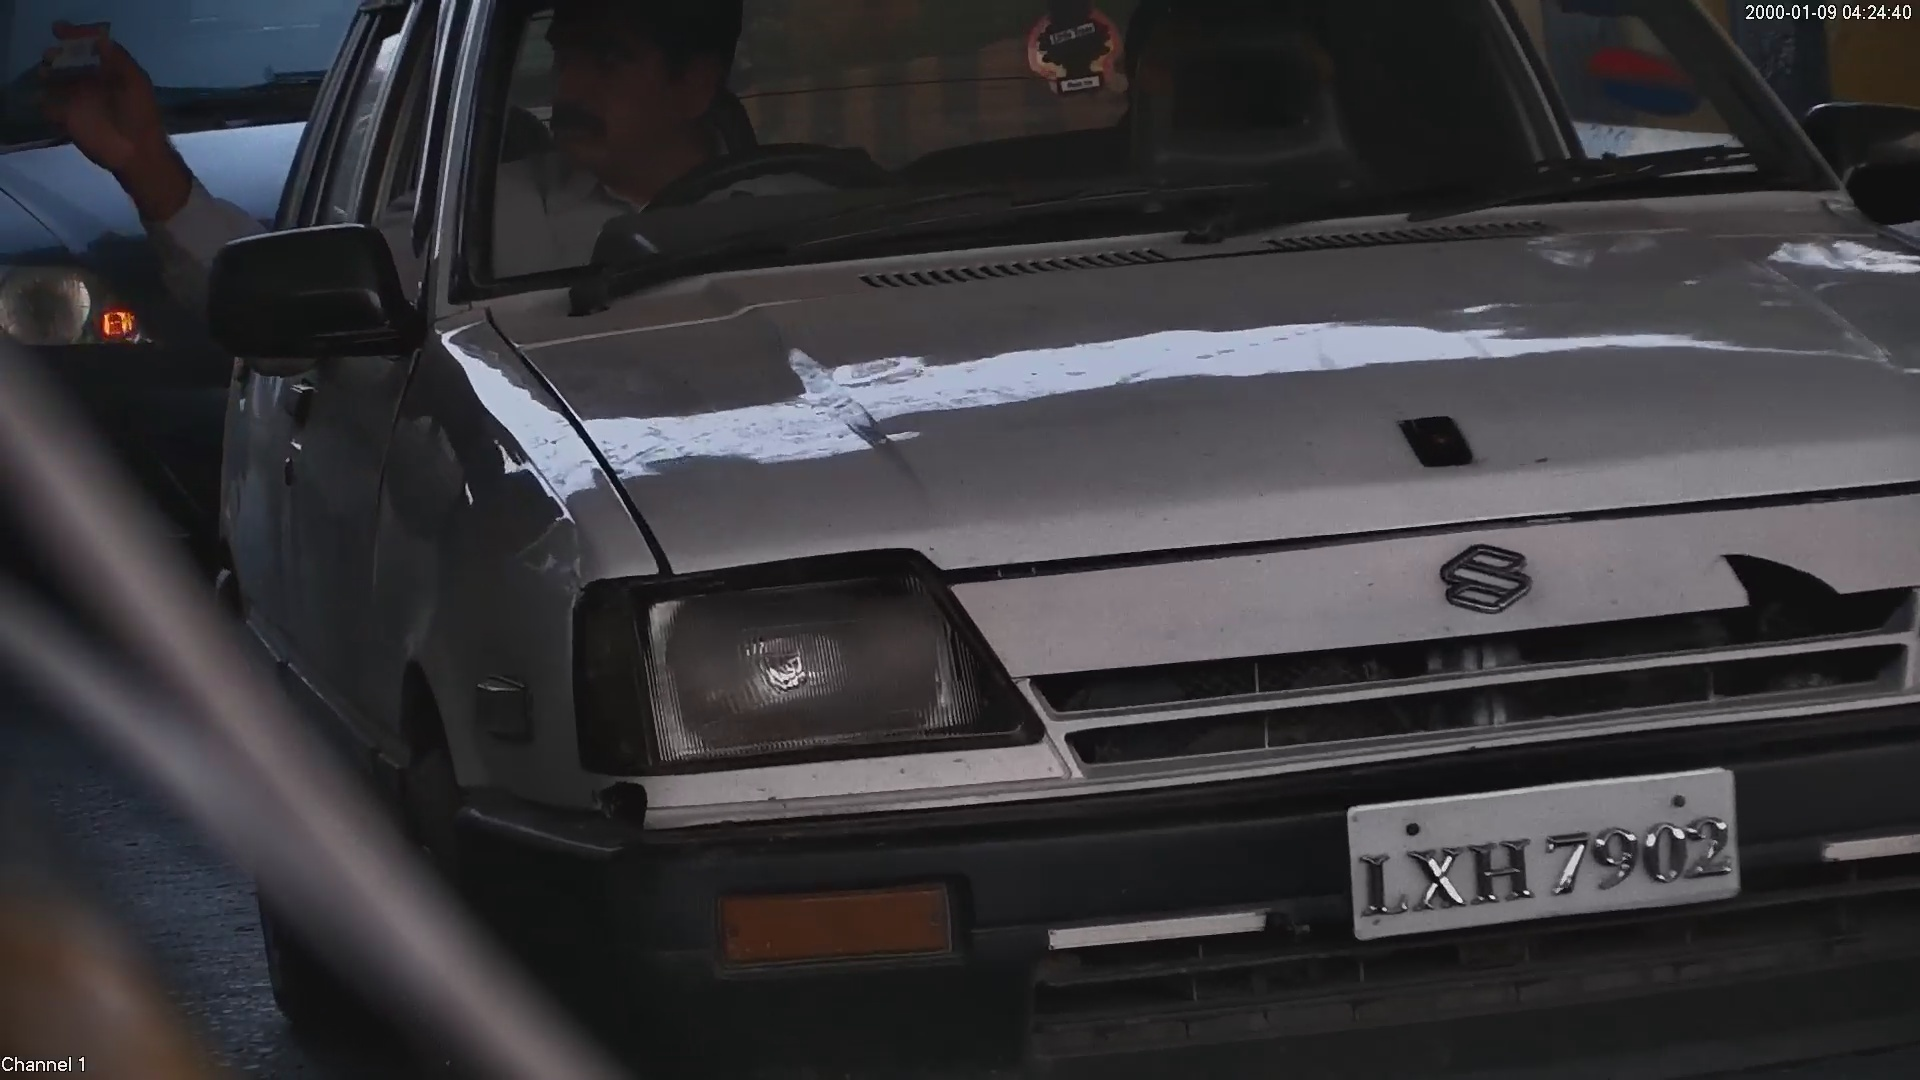Number_Plate: (1330, 751, 1752, 938)
Undefined: (597, 559, 978, 744), (715, 866, 971, 964), (1428, 523, 1541, 620)
